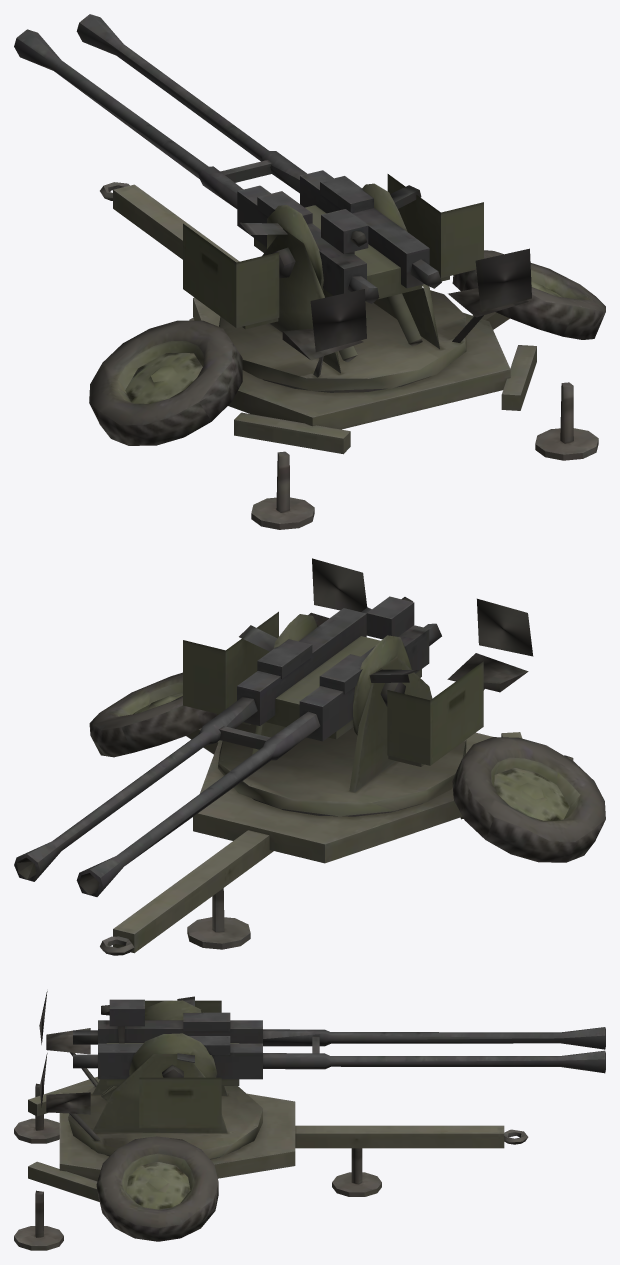
Rendered from aaa_gun_lod1.glb.
3 views of the same model, one above another, from view 1: azimuth 30°, elevation 25°; view 2: azimuth 150°, elevation 25°; view 3: azimuth 270°, elevation 25° (orthographic). The views are drawn at different scales.
Parts seen in each view (by area): view 1: carriage, turret, barrels; view 2: carriage, turret, barrels; view 3: carriage, barrels, turret.
Boxes of the visible parts, x1,y1,x2,y2 form: carriage: (89, 182, 605, 529); turret: (183, 174, 531, 391); barrels: (14, 14, 441, 303); carriage: (89, 672, 605, 955); turret: (183, 558, 533, 816); barrels: (14, 607, 441, 896); carriage: (14, 1076, 528, 1250); barrels: (73, 1000, 605, 1085); turret: (39, 991, 262, 1158).
Bounding box in the file's own units: 3 × 1.3 × 4.02.
1 material, 1 textured.
